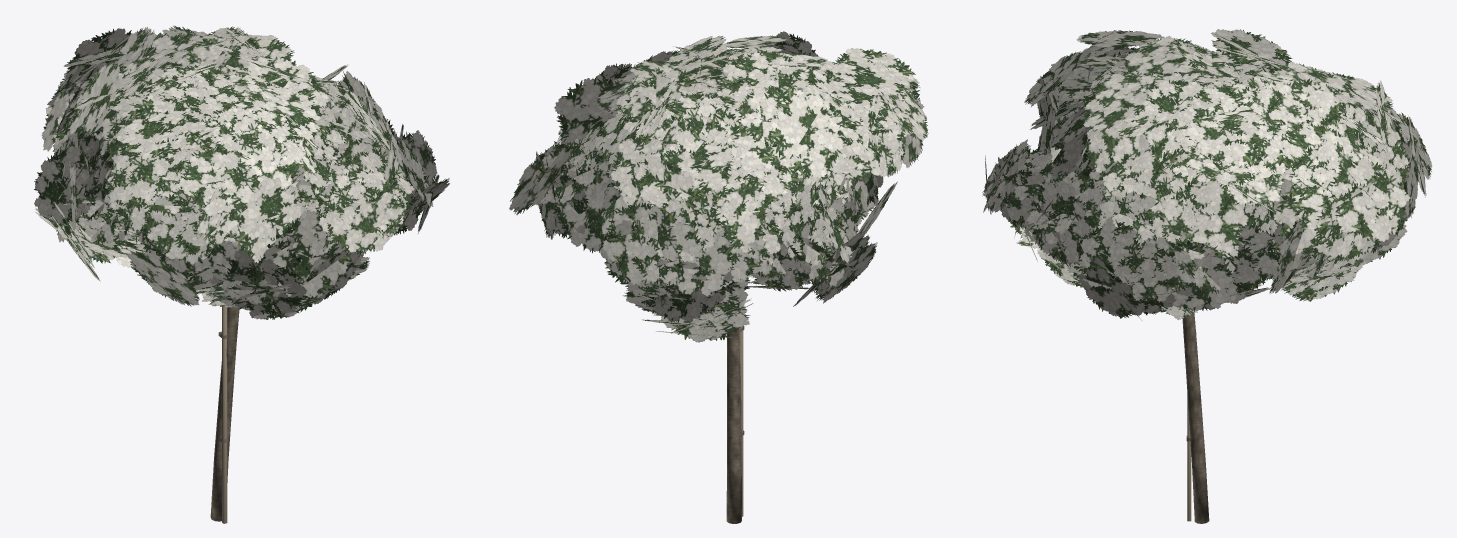
File: SM_Morin_OleandroAlberello_Bianco.fbx
The picture shows the model from 3 angles, left to right: view 1: azimuth 30°, elevation 25°; view 2: azimuth 150°, elevation 25°; view 3: azimuth 270°, elevation 25°; orthographic projection.
Parts seen in each view (by area): view 1: SM_Morin_OleandroAlberello_Bianco; view 2: SM_Morin_OleandroAlberello_Bianco; view 3: SM_Morin_OleandroAlberello_Bianco.
Boxes of the visible parts, x1,y1,x2,y2 form: SM_Morin_OleandroAlberello_Bianco: [34, 25, 449, 523]; SM_Morin_OleandroAlberello_Bianco: [509, 31, 928, 523]; SM_Morin_OleandroAlberello_Bianco: [982, 29, 1432, 523].
Size of what is drawn, in the model's own units: 337 by 372 by 413.
2 materials, 2 textured.
